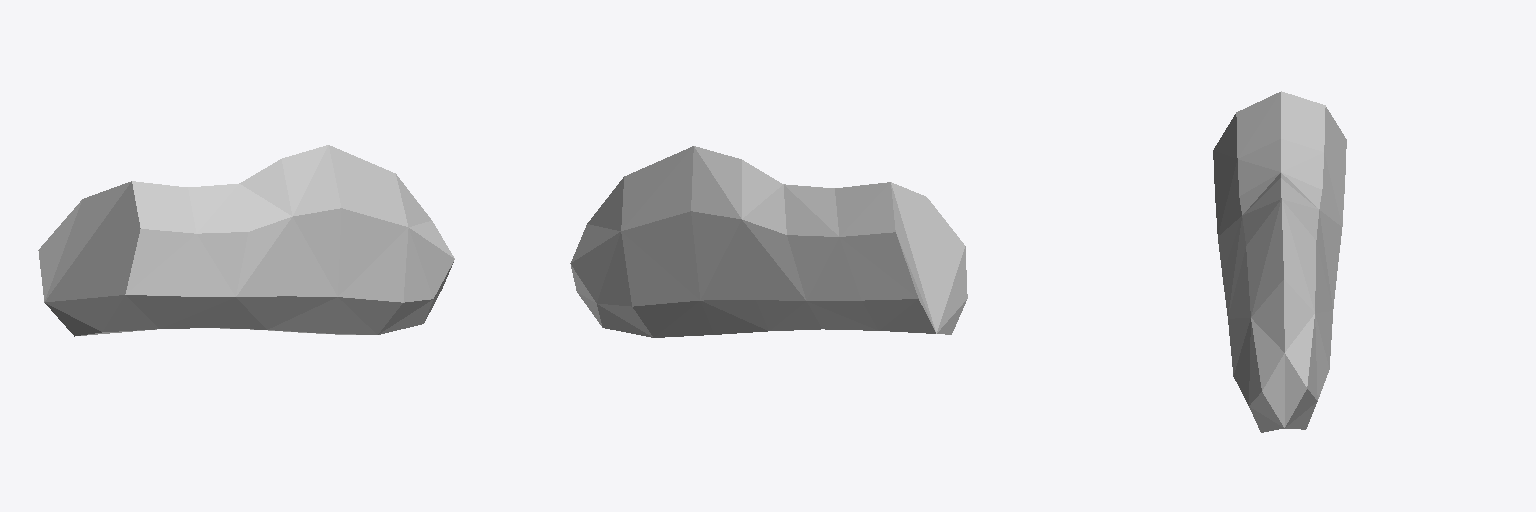
Rendered from cat_model-left-hand.obj.
3 views of the same model, side by side, from view 1: azimuth 30°, elevation 25°; view 2: azimuth 150°, elevation 25°; view 3: azimuth 270°, elevation 25° (orthographic).
Visible parts, largest first — view 1: Plane.000; view 2: Plane.000; view 3: Plane.000.
Boxes of the visible parts, box(x1,y1,x2,y2) form: Plane.000: box(38, 145, 454, 336); Plane.000: box(570, 146, 967, 337); Plane.000: box(1213, 91, 1346, 432).
Size of the model in its own units: 0.5737 by 0.3015 by 0.1748.